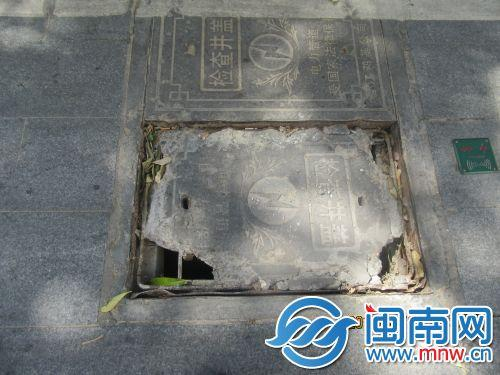wellcover: (116, 118, 451, 310)
